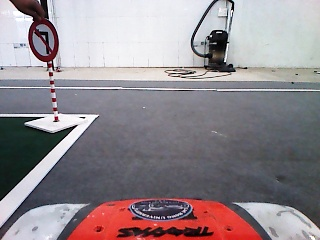ban: (25, 16, 62, 64)
